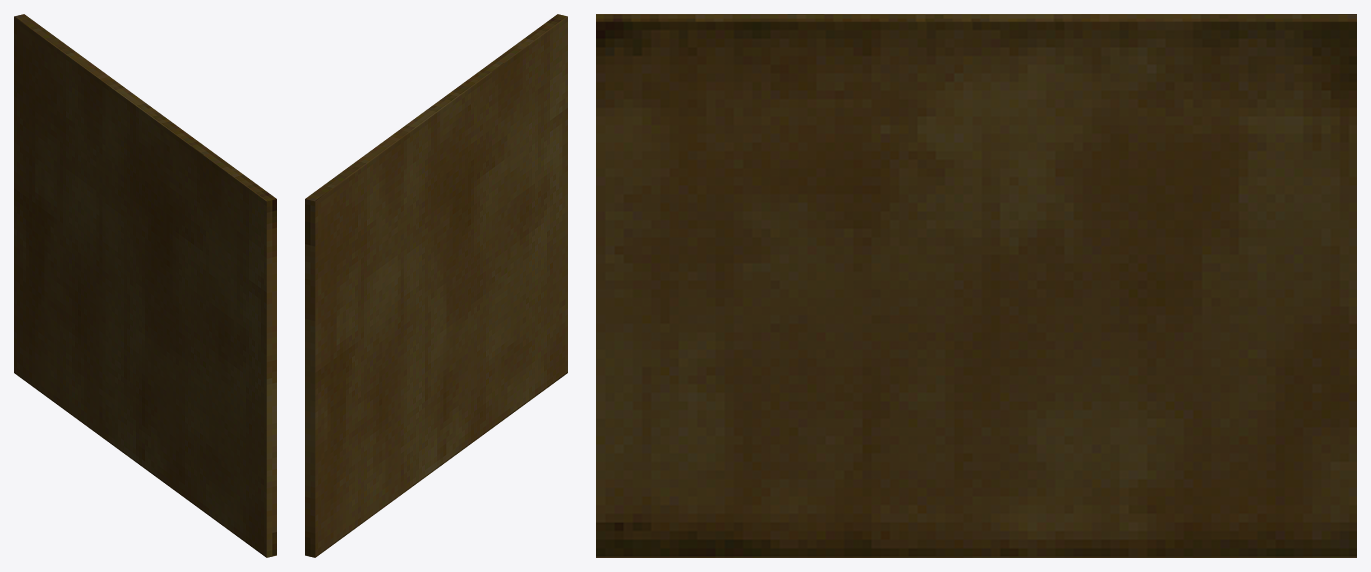
The model's file is SM_OfficeRoom _Wall_1.fbx.
3 views of the same model, side by side, from view 1: azimuth 30°, elevation 25°; view 2: azimuth 150°, elevation 25°; view 3: azimuth 270°, elevation 25° (orthographic). The views are drawn at different scales.
Visible parts, largest first — view 1: SM_OfficeRoom_Wall_1; view 2: SM_OfficeRoom_Wall_1; view 3: SM_OfficeRoom_Wall_1.
Boxes of the visible parts, box(x1,y1,x2,y2) form: SM_OfficeRoom_Wall_1: box(14, 14, 276, 557); SM_OfficeRoom_Wall_1: box(305, 14, 567, 557); SM_OfficeRoom_Wall_1: box(596, 14, 1356, 557).
Bounding box in the file's own units: 9.03 × 300 × 386.
